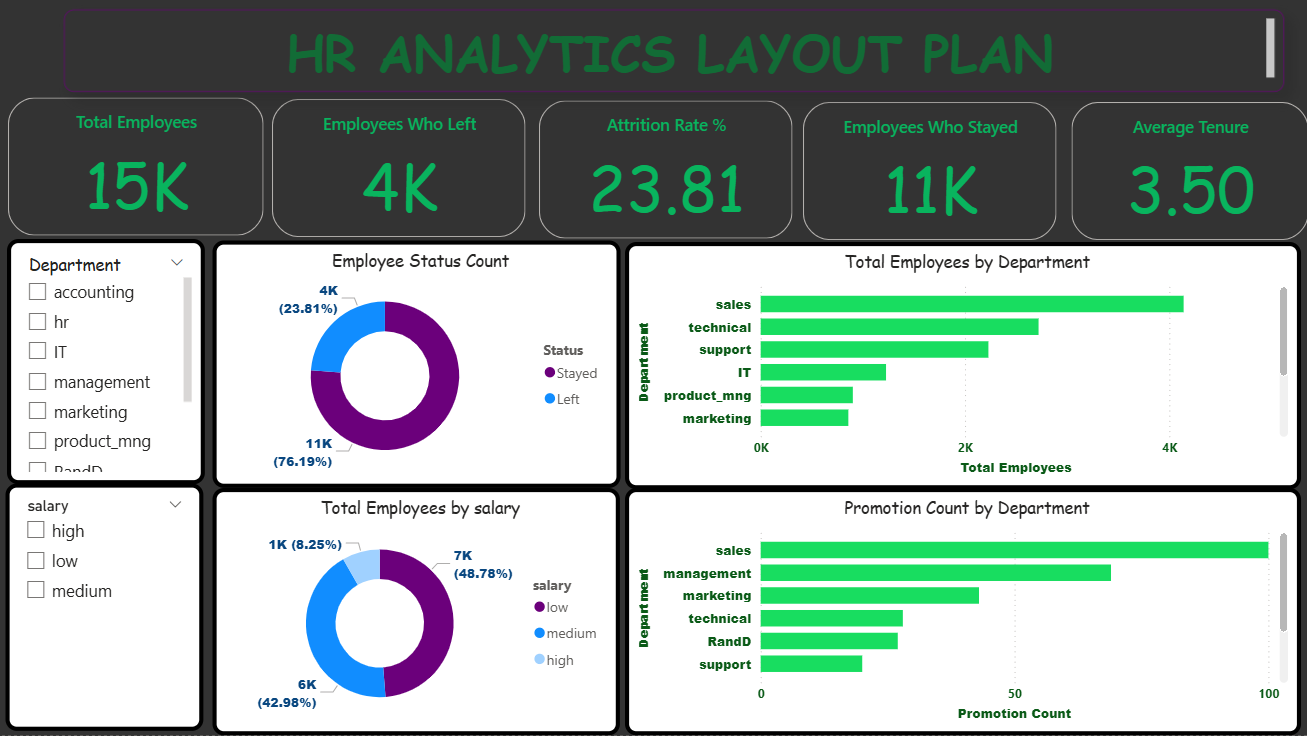

This screenshot's page, from the dashboard's own definition file:
{"tool":"powerbi","page":{"name":"Overview","canvas":[1280,720],"ordinal":0},"visuals":[{"type":"cardVisual","fields":{"Data":["HR_comma_sep.Toal Employees"]},"box":[4,96,258,144],"z":0},{"type":"cardVisual","fields":{"Data":["HR_comma_sep.Attrition Rate"]},"box":[520,99,256,144],"z":1000},{"type":"cardVisual","fields":{"Data":["HR_comma_sep.Employees Who Stayed"]},"box":[776,101,256,144],"z":2000},{"type":"cardVisual","fields":{"Data":["HR_comma_sep.Employees Who Left"]},"box":[260,98,256,144],"z":3000},{"type":"textbox","box":[64,16,1184,80],"z":4000},{"type":"cardVisual","fields":{"Data":["HR_comma_sep.Average Tenure"]},"box":[1037,100,240,144],"z":5000},{"type":"donutChart","title":"Employee Status Count","fields":{"Category":["Status.Status"],"Y":["HR_comma_sep.Employee Status Count"]},"box":[208,240,396,240],"z":6000},{"type":"clusteredBarChart","fields":{"Category":["HR_comma_sep.Department"],"Y":["HR_comma_sep.Total Employees"]},"box":[608,241,656,240],"z":7000},{"type":"donutChart","fields":{"Y":["HR_comma_sep.Total Employees"],"Category":["HR_comma_sep.salary"]},"box":[208,480,395,240],"z":8000},{"type":"clusteredBarChart","fields":{"Category":["HR_comma_sep.Department"],"Y":["HR_comma_sep.Promotion Count"]},"box":[608,480,656,240],"z":9000},{"type":"slicer","fields":{"Values":["HR_comma_sep.Department"]},"box":[9,239,192,238],"z":10000},{"type":"slicer","fields":{"Values":["HR_comma_sep.salary"]},"box":[7,476,192,240],"z":11000}]}

Visuals, with their boxes in screenshot pixels (x1, y1, x2, y2), scaled from the page's 1280x720 canvas onto the 1307x736 screenshot:
cardVisual - HR_comma_sep.Toal Employees: locate(4, 98, 268, 245)
cardVisual - HR_comma_sep.Attrition Rate: locate(531, 101, 792, 248)
cardVisual - HR_comma_sep.Employees Who Stayed: locate(792, 103, 1054, 250)
cardVisual - HR_comma_sep.Employees Who Left: locate(265, 100, 527, 247)
textbox: locate(65, 16, 1274, 98)
cardVisual - HR_comma_sep.Average Tenure: locate(1059, 102, 1304, 249)
"Employee Status Count" donutChart: locate(212, 245, 617, 491)
clusteredBarChart - HR_comma_sep.Department x HR_comma_sep.Total Employees: locate(621, 246, 1291, 492)
donutChart - HR_comma_sep.Total Employees x HR_comma_sep.salary: locate(212, 491, 616, 735)
clusteredBarChart - HR_comma_sep.Department x HR_comma_sep.Promotion Count: locate(621, 491, 1291, 735)
slicer - HR_comma_sep.Department: locate(9, 244, 205, 488)
slicer - HR_comma_sep.salary: locate(7, 487, 203, 732)
